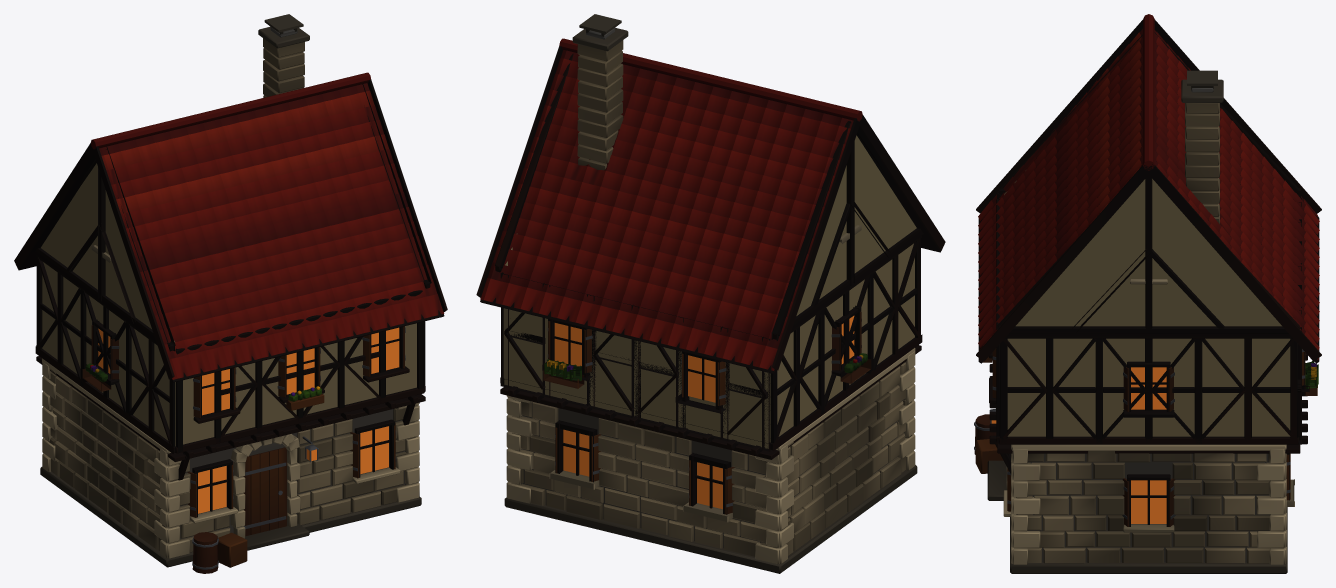
Rendered from Casa4A.fbx.
3 renders of one model, left to right at view 1: azimuth 30°, elevation 25°; view 2: azimuth 150°, elevation 25°; view 3: azimuth 270°, elevation 25°, orthographic. The views are drawn at different scales.
Parts seen in each view (by area): view 1: Casa4A; view 2: Casa4A; view 3: Casa4A.
Boxes of the visible parts, left/top/right/bottom form: Casa4A: left=14, top=14, right=447, bottom=573; Casa4A: left=476, top=14, right=945, bottom=573; Casa4A: left=974, top=14, right=1321, bottom=573.
Bounding box in the file's own units: 7.85 × 11.69 × 7.83.
